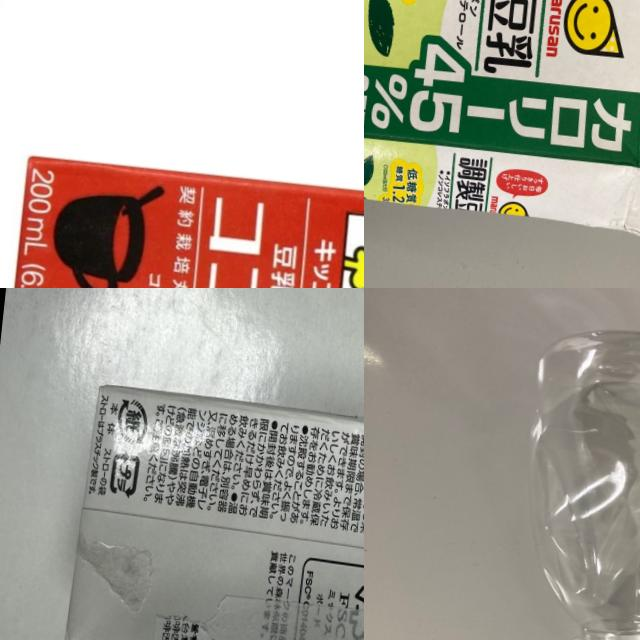Aluminium Foil: (57, 377, 364, 640), (364, 0, 640, 245), (0, 147, 364, 288)
Transparent Plastic Bottle: (497, 325, 640, 640)
